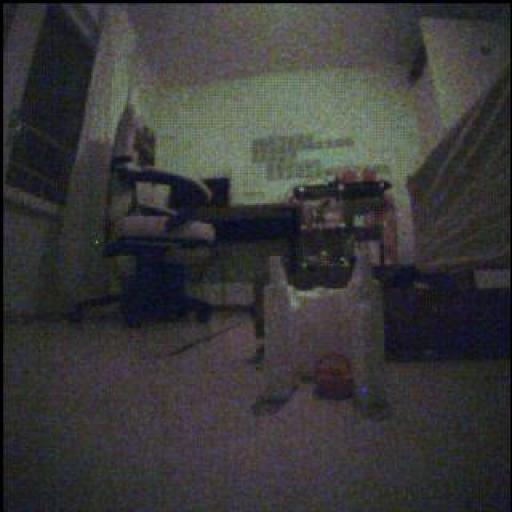basket: (314, 352, 353, 402)
